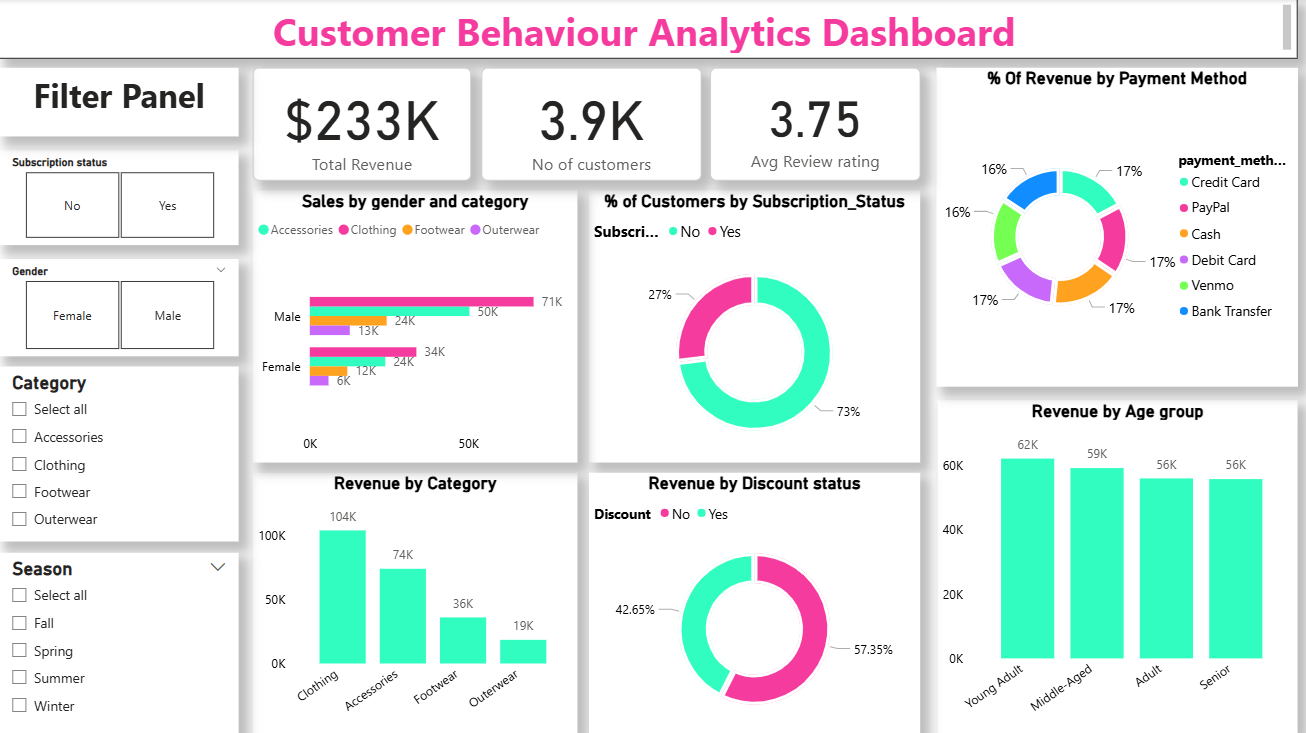

What the dashboard file says about the page in this screenshot:
{"tool":"powerbi","page":{"name":"Page 1","canvas":[1280,720],"ordinal":0},"visuals":[{"type":"textbox","box":[0,0,1270.5,58.7],"z":0},{"type":"donutChart","title":"% of Customers by Subscription_Status","fields":{"Category":["customer_behaviour customer.subscription_status"],"Y":["customer_behaviour customer.No of customers"]},"box":[577.2,187.1,324.1,266.6],"z":1000},{"type":"clusteredColumnChart","title":"Revenue by Category","fields":{"Y":["Sum(customer_behaviour customer.purchase_amount)"],"Category":["customer_behaviour customer.category"]},"box":[248.2,463.5,317.9,256.8],"z":2000},{"type":"clusteredBarChart","title":"Sales by gender and category","fields":{"Category":["customer_behaviour customer.gender"],"Series":["customer_behaviour customer.category"],"Y":["Sum(customer_behaviour customer.purchase_amount)"]},"box":[248.2,187.1,317.9,266.6],"z":3000},{"type":"columnChart","title":"Revenue  by Age group","fields":{"Category":["customer_behaviour customer.age_group"],"Y":["Sum(customer_behaviour customer.purchase_amount)"]},"box":[918.3,392.5,352.2,327.7],"z":4000},{"type":"donutChart","title":"Revenue by Discount status","fields":{"Category":["customer_behaviour customer.discount_applied"],"Y":["Sum(customer_behaviour customer.purchase_amount)"]},"box":[577.2,463.5,324.1,256.8],"z":5000},{"type":"donutChart","title":"% Of Revenue by Payment Method","fields":{"Category":["customer_behaviour customer.payment_method"],"Y":["Sum(customer_behaviour customer.purchase_amount)"]},"box":[917.1,67.3,353.4,311.8],"z":6000},{"type":"card","fields":{"Values":["Sum(customer_behaviour customer.purchase_amount)"]},"box":[248.2,67.3,214,110.1],"z":7000},{"type":"card","fields":{"Values":["customer_behaviour customer.No of customers"]},"box":[472,67.3,215.2,110.1],"z":8000},{"type":"card","fields":{"Values":["customer_behaviour customer.Avg Review rating"]},"box":[695.8,67.3,205.4,110.1],"z":9000},{"type":"slicer","fields":{"Values":["customer_behaviour customer.subscription_status"]},"box":[0,148,234.8,92.9],"z":10000},{"type":"slicer","fields":{"Values":["customer_behaviour customer.gender"]},"box":[0,254.3,234.8,95.4],"z":11000},{"type":"slicer","fields":{"Values":["customer_behaviour customer.category"]},"box":[0,359.5,234.8,171.2],"z":12000},{"type":"textbox","box":[0,67.3,234.8,67.3],"z":13000},{"type":"slicer","fields":{"Values":["customer_behaviour customer.season"]},"box":[0,541.7,234.8,178.5],"z":14000}]}

Visuals, with their boxes in screenshot pixels (x1, y1, x2, y2), scaled from the page's 1280x720 canvas onto the 1306x733 screenshot:
textbox: 0/0/1296/60
"% of Customers by Subscription_Status" donutChart: 589/190/920/462
"Revenue by Category" clusteredColumnChart: 253/472/578/732
"Sales by gender and category" clusteredBarChart: 253/190/578/462
"Revenue  by Age group" columnChart: 937/400/1296/732
"Revenue by Discount status" donutChart: 589/472/920/732
"% Of Revenue by Payment Method" donutChart: 936/69/1296/386
card - Sum(customer_behaviour customer.purchase_amount): 253/69/472/181
card - customer_behaviour customer.No of customers: 482/69/701/181
card - customer_behaviour customer.Avg Review rating: 710/69/920/181
slicer - customer_behaviour customer.subscription_status: 0/151/240/245
slicer - customer_behaviour customer.gender: 0/259/240/356
slicer - customer_behaviour customer.category: 0/366/240/540
textbox: 0/69/240/137
slicer - customer_behaviour customer.season: 0/551/240/732
